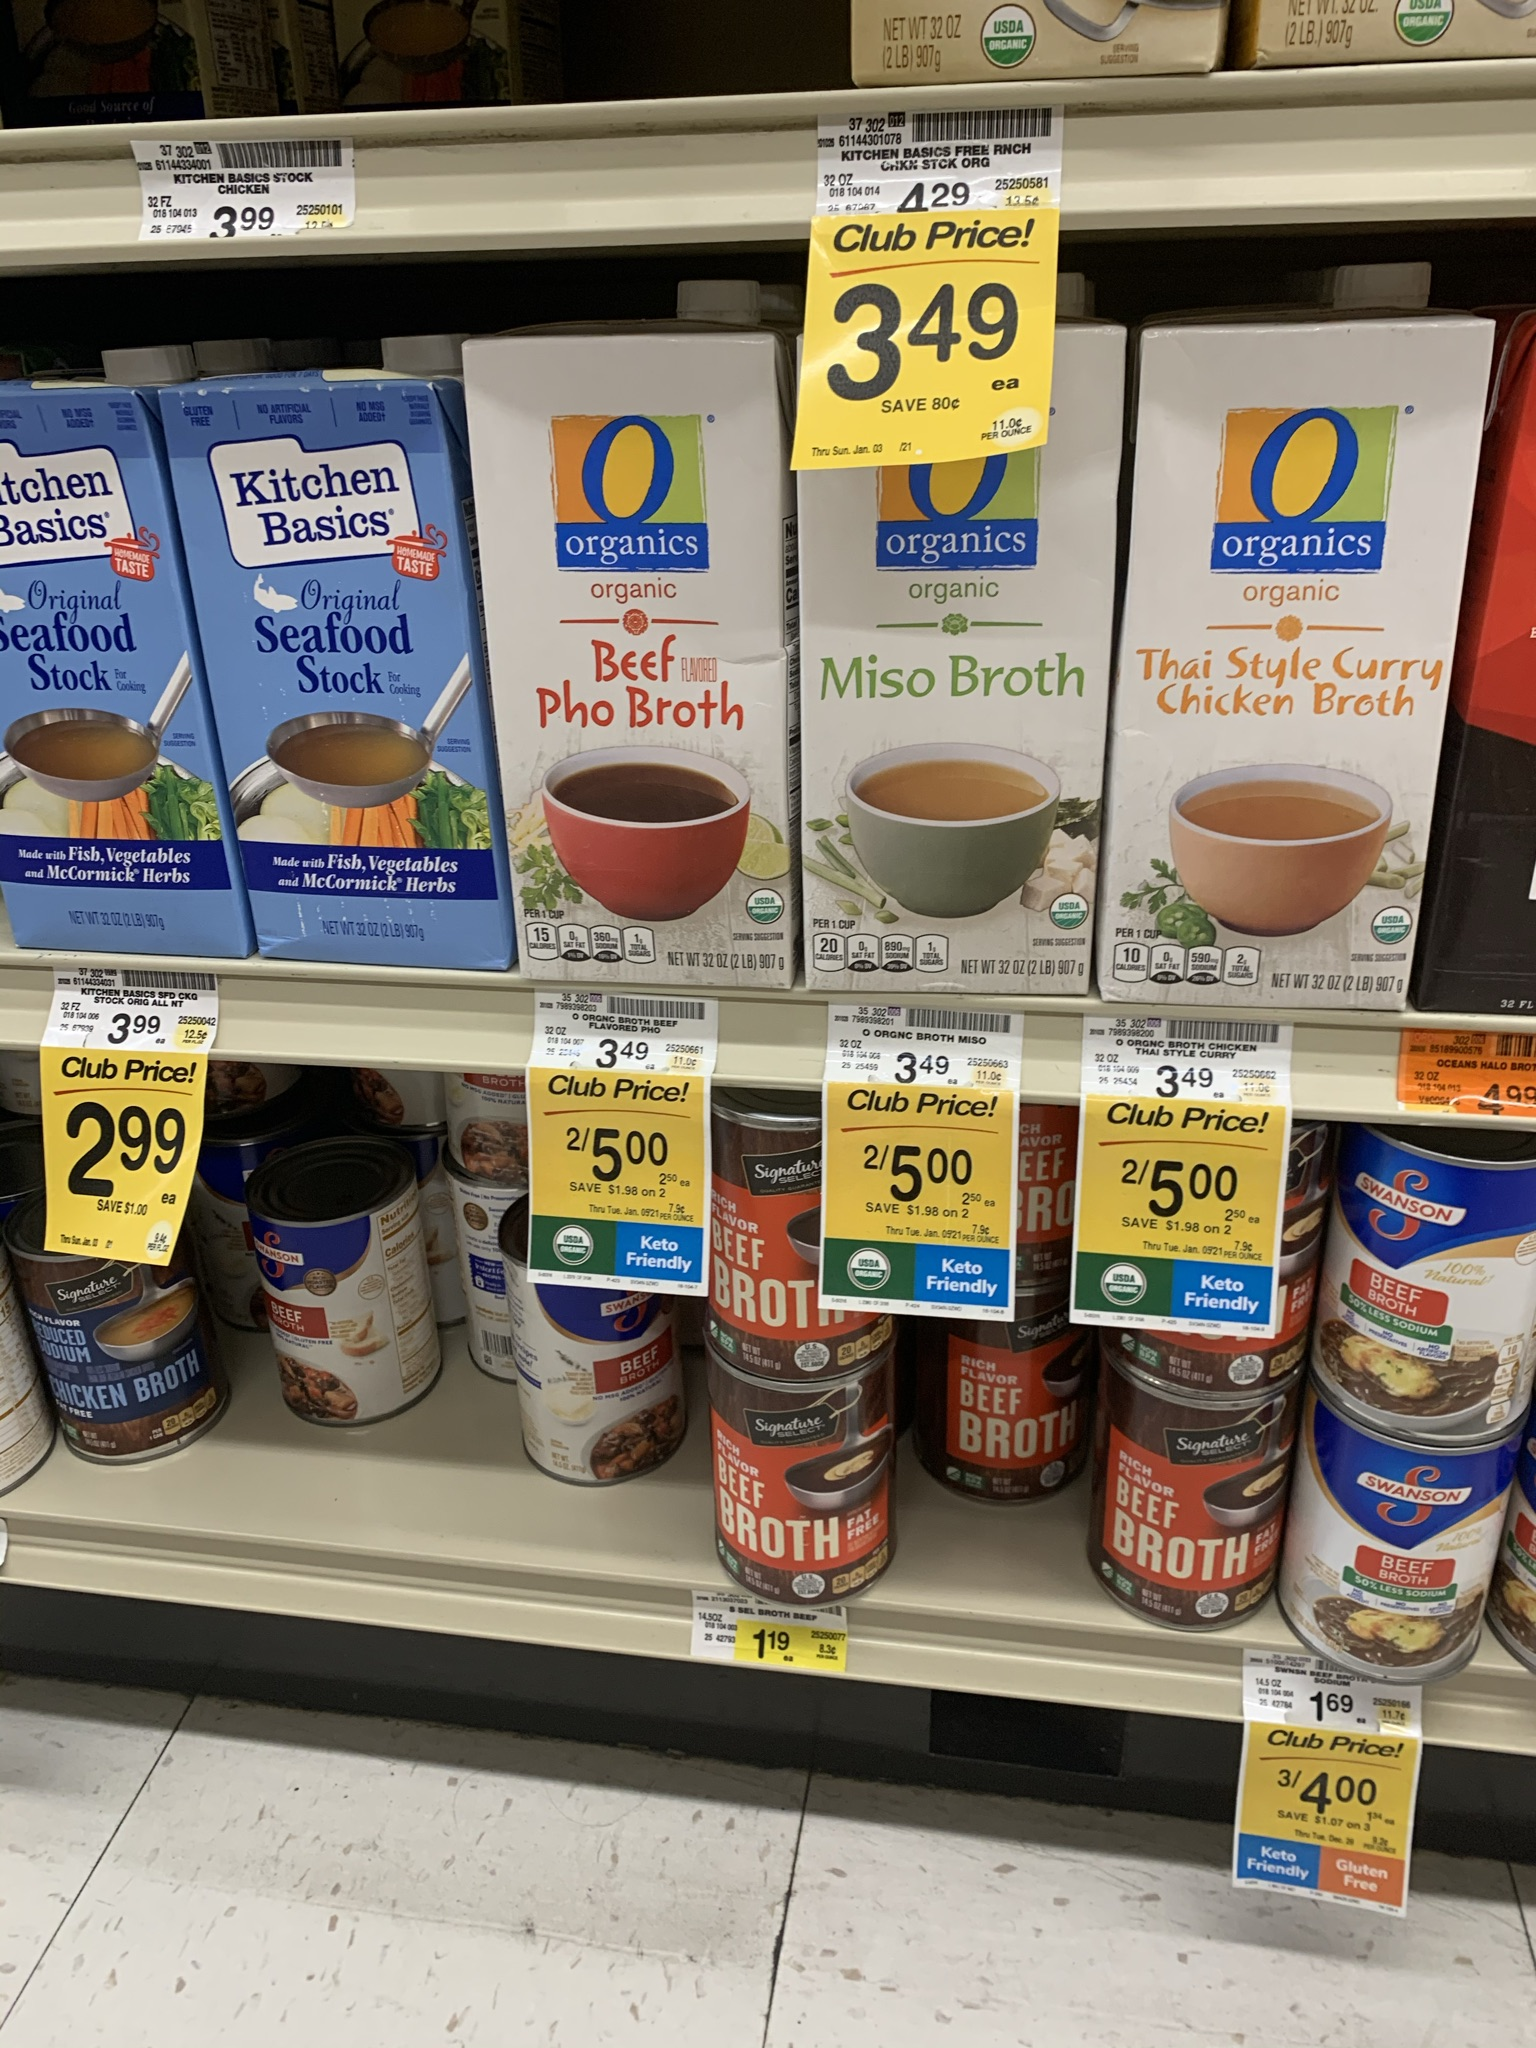box: (1146, 339, 1409, 1001), (537, 406, 786, 985), (821, 490, 1092, 992), (250, 453, 503, 972), (3, 447, 153, 947)
can: (1360, 1151, 1521, 1422), (1313, 1443, 1467, 1667), (726, 1385, 879, 1598), (269, 1192, 424, 1397), (1117, 1400, 1260, 1609), (52, 1259, 202, 1442), (939, 1335, 1078, 1498)
